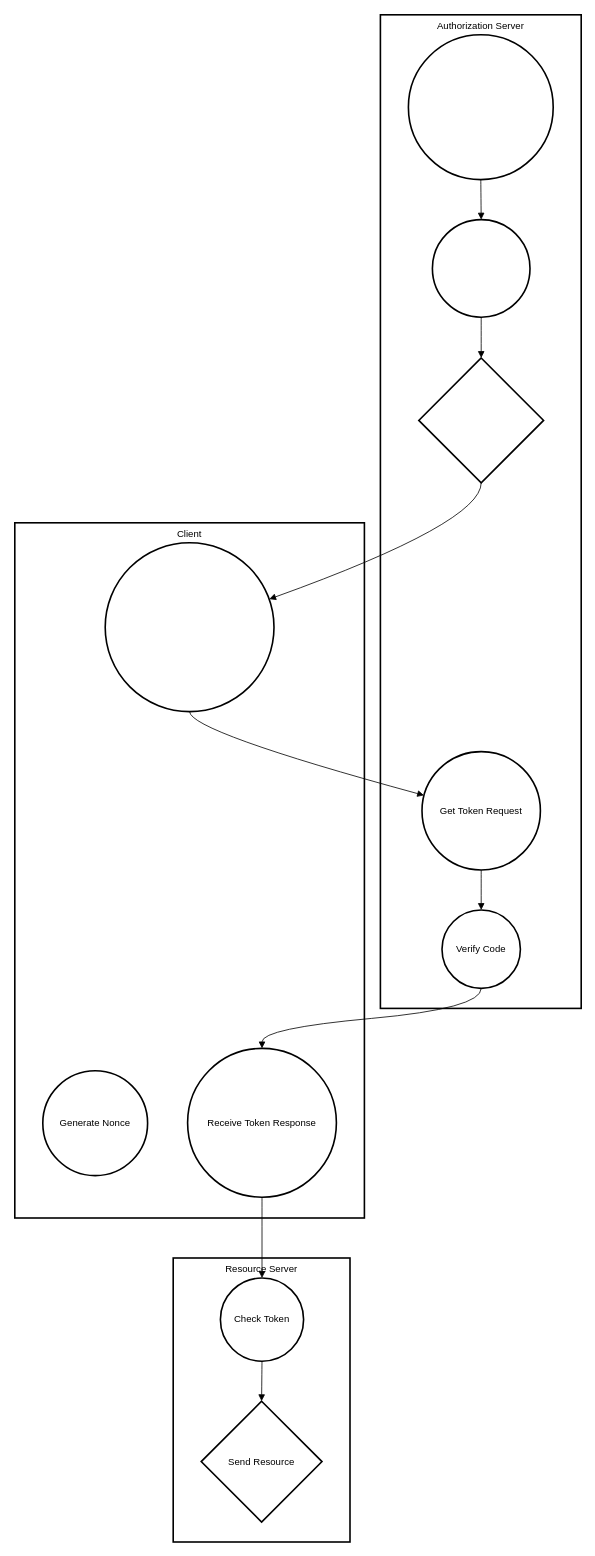
Image size: 595x1556. Some labels were removed from this diagram. Each missing label, with the centre of its shape:
Authorize User: pixel 481 420
Generate Code: pixel 480 268
Generate Code Verifier: pixel 480 107
Send Authorization Request: pixel 189 627
